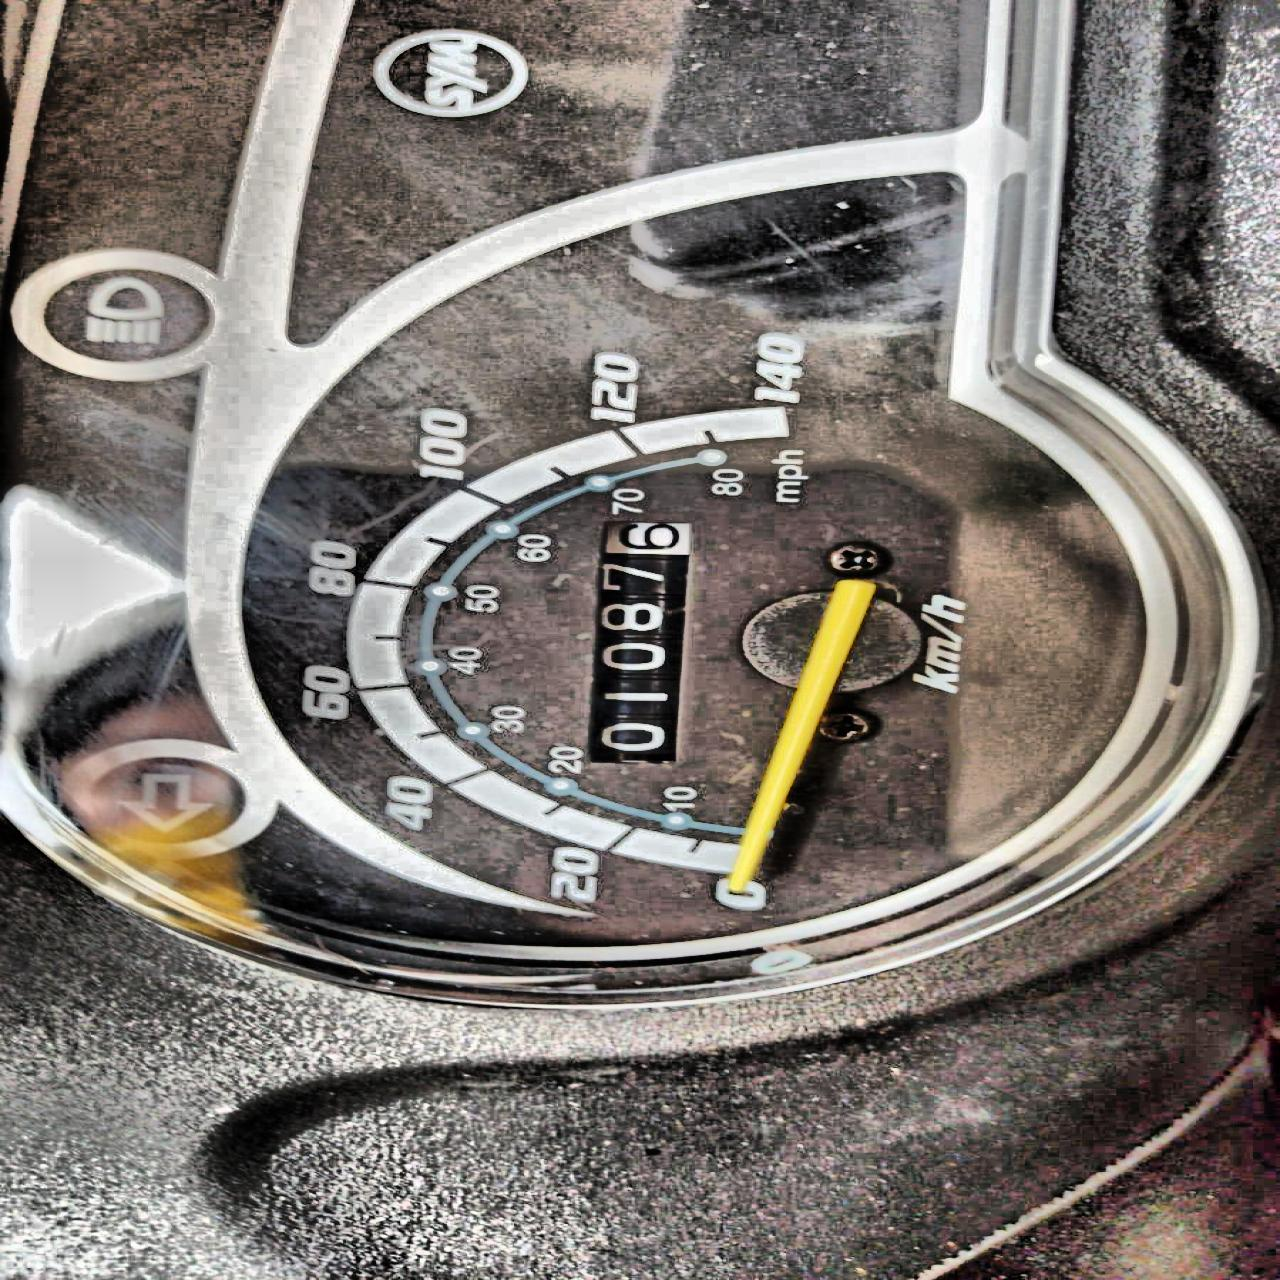0: (592, 638, 670, 673), (592, 719, 670, 753)
1: (591, 681, 676, 708)
6: (608, 518, 685, 551)
7: (592, 558, 672, 592)
8: (591, 599, 668, 634)
odometer: (573, 513, 700, 770)
